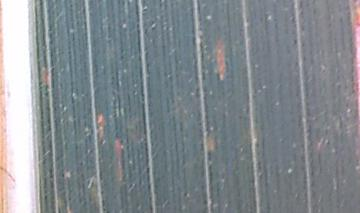tarspot: (149, 22, 159, 31), (182, 191, 190, 198), (59, 171, 66, 179), (293, 37, 298, 48), (142, 6, 148, 14), (157, 1, 163, 9)
